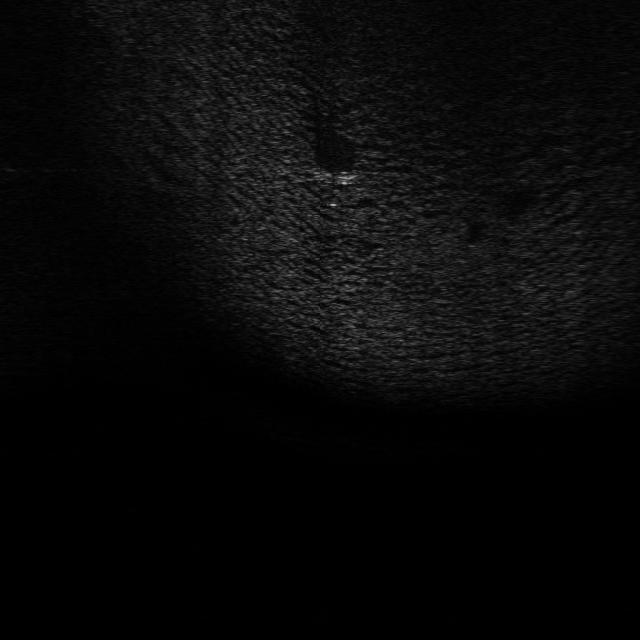plane: (307, 164, 359, 188)
